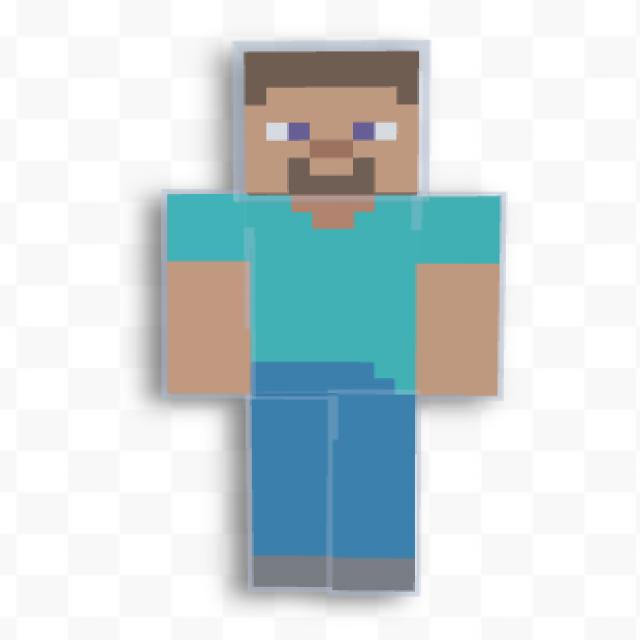Player: (163, 39, 505, 598)
